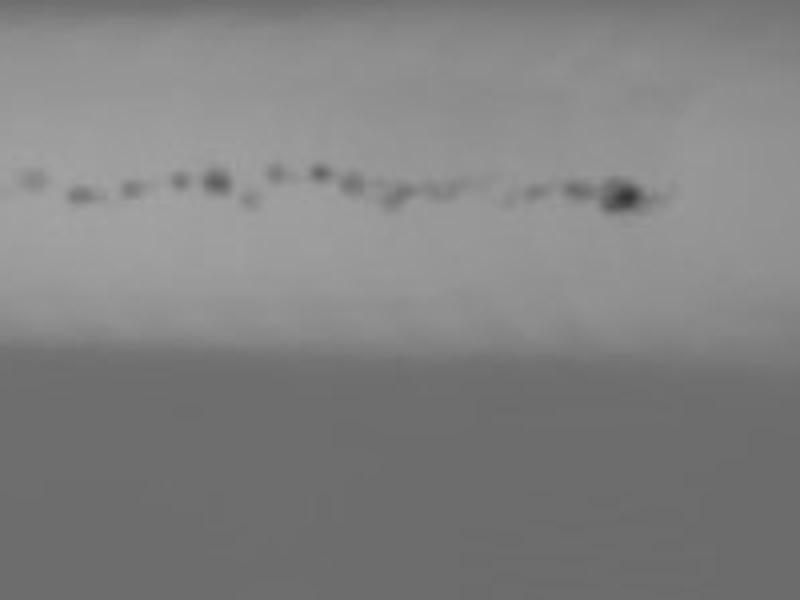defect: (602, 178, 650, 214), (420, 176, 467, 203), (380, 188, 417, 218), (10, 168, 48, 193), (65, 185, 102, 206), (204, 168, 233, 193), (335, 173, 366, 196), (561, 181, 594, 201), (119, 180, 148, 202), (260, 159, 284, 185), (523, 180, 551, 201), (236, 185, 262, 207), (168, 171, 195, 192), (304, 162, 332, 181), (497, 192, 519, 209)
